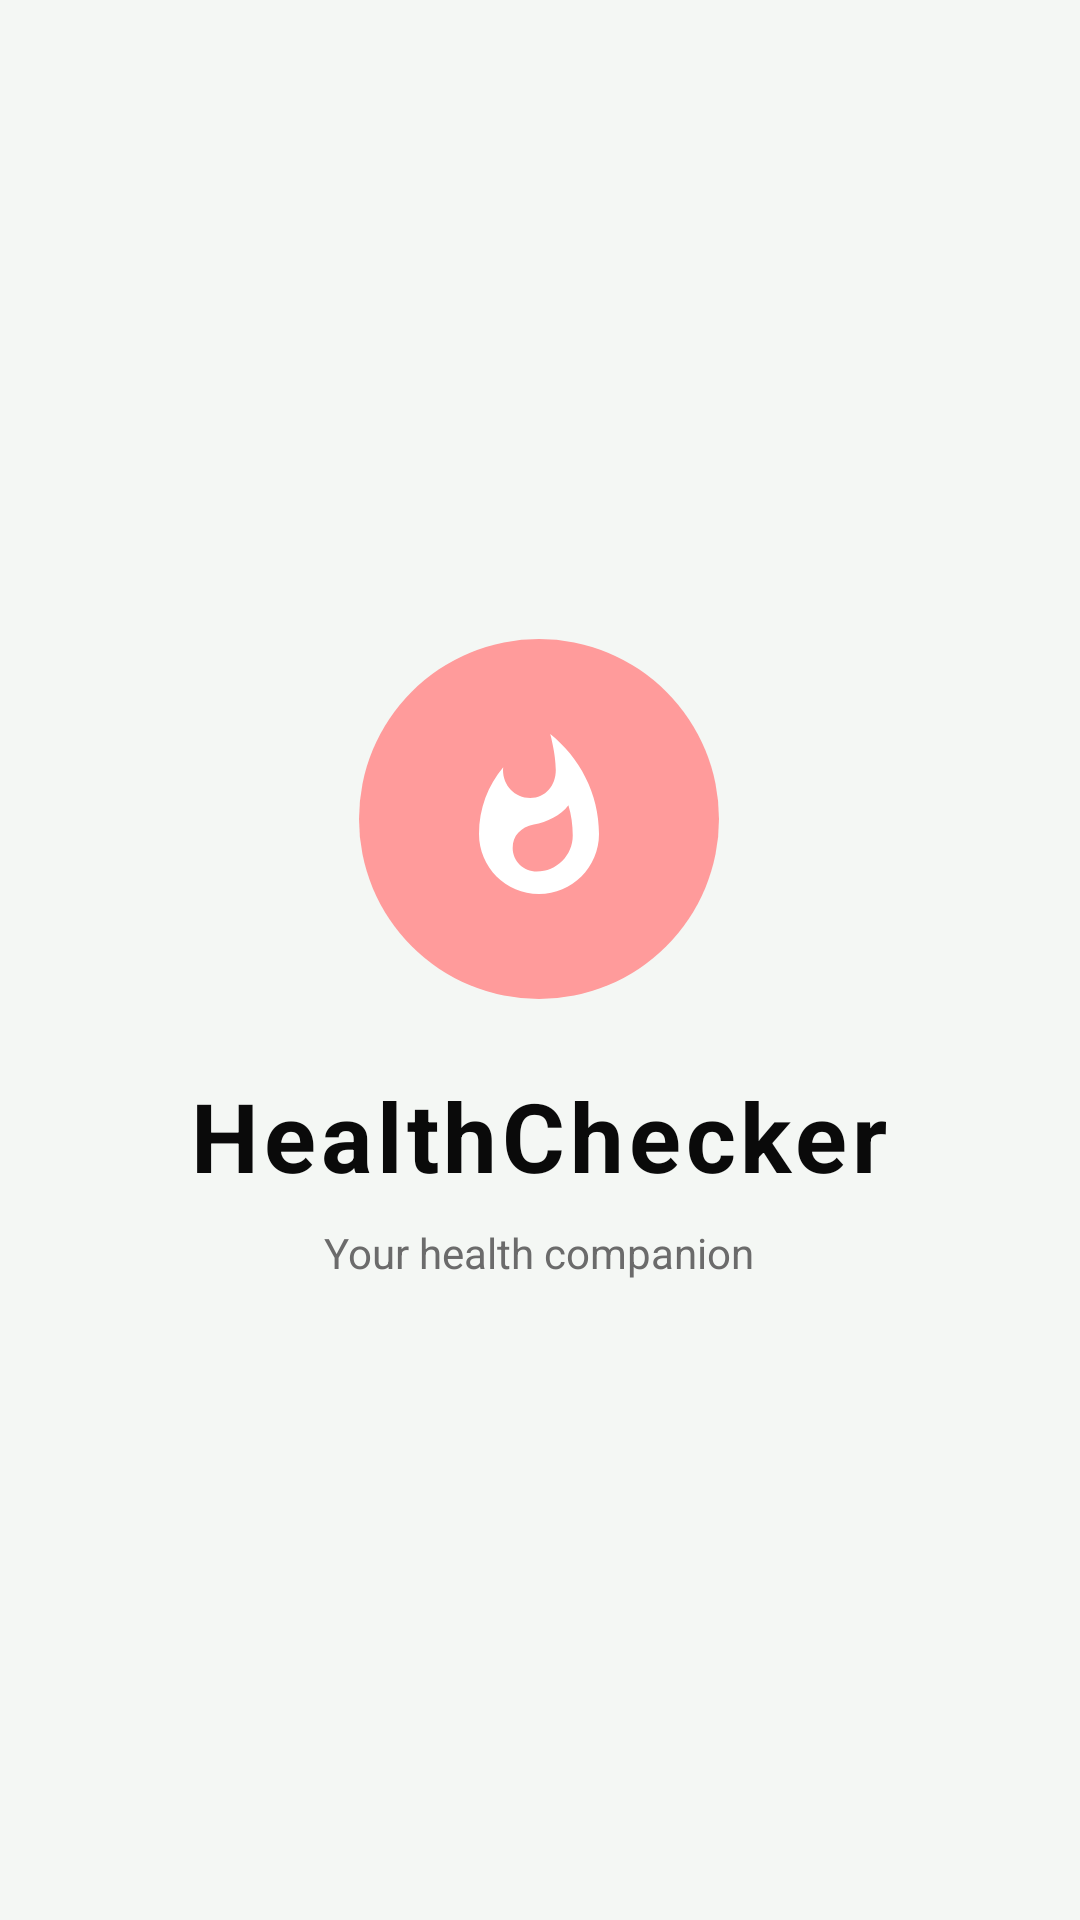

Point at icon controls on the screen. Image size 1080x1920, points as (x=x, y=y).
flame: (x=539, y=814)
